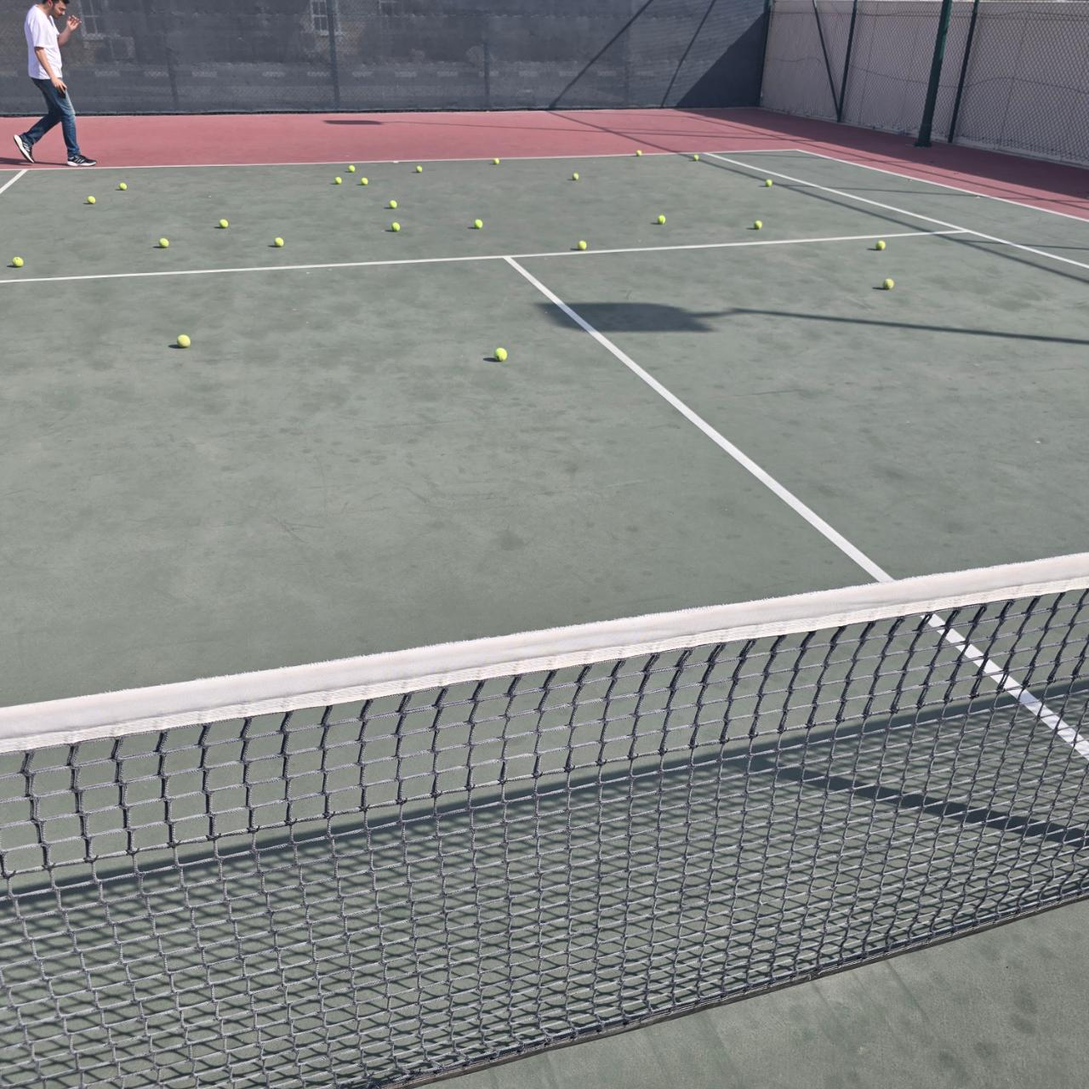tennis-ball: (175, 332, 191, 347), (493, 345, 507, 361), (9, 254, 24, 267), (271, 234, 284, 248), (881, 276, 894, 289), (472, 217, 483, 228)
